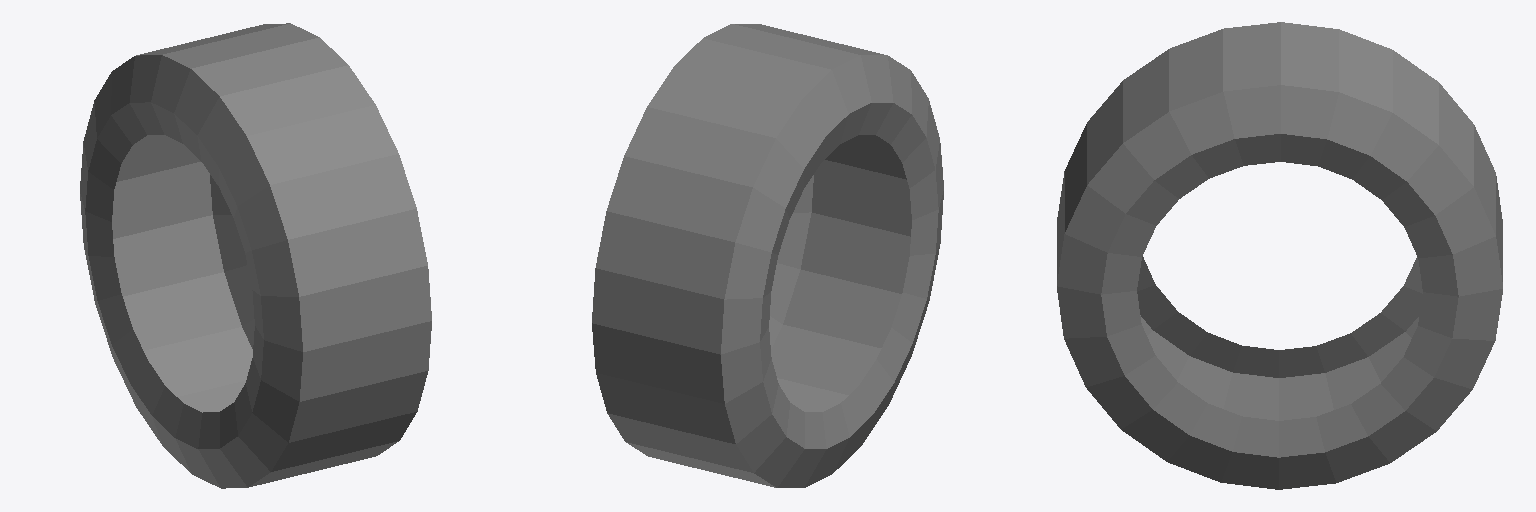
The model's file is WheelBR_Tire.obj.
3 views of the same model, side by side, from view 1: azimuth 30°, elevation 25°; view 2: azimuth 150°, elevation 25°; view 3: azimuth 270°, elevation 25° (orthographic).
Visible parts, largest first — view 1: WheelBR_Tire; view 2: WheelBR_Tire; view 3: WheelBR_Tire.
Boxes of the visible parts, x1,y1,x2,y2 form: WheelBR_Tire: [80, 23, 431, 488]; WheelBR_Tire: [592, 24, 943, 487]; WheelBR_Tire: [1057, 22, 1502, 489].
Size of the model in its own units: 1.26 by 3 by 3.